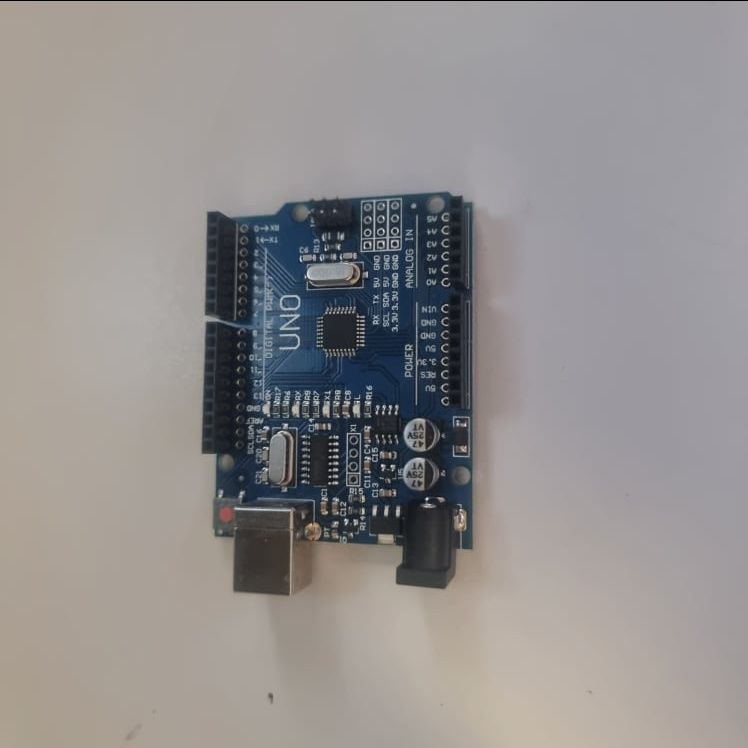UNO R3: (200, 190, 477, 595)
